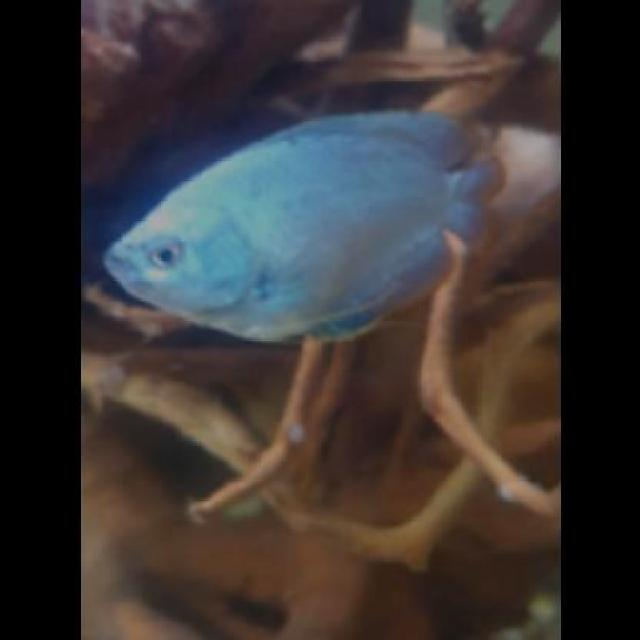Gourami: (103, 104, 514, 350)
